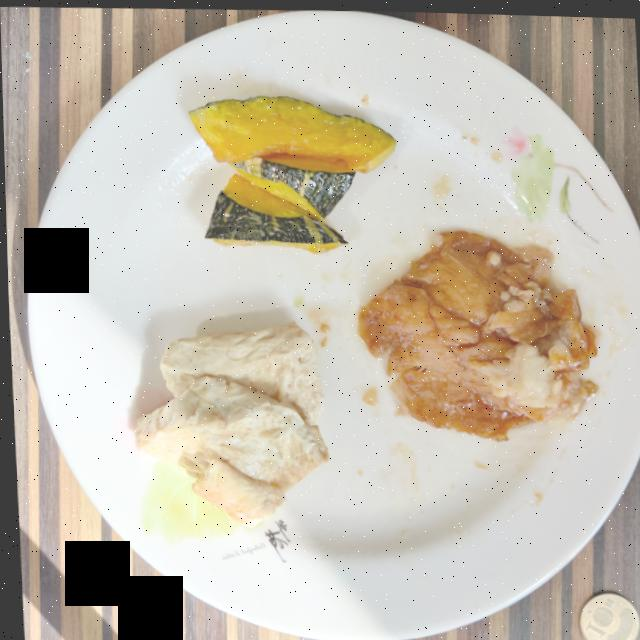Kabayaki sea bream fillet: (356, 226, 594, 436)
coin: (576, 588, 635, 640)
pumpkin: (187, 93, 394, 250)
